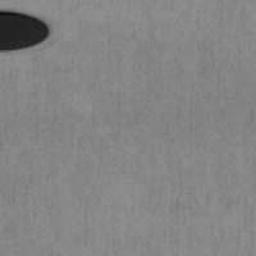Punching: (0, 11, 49, 51)
